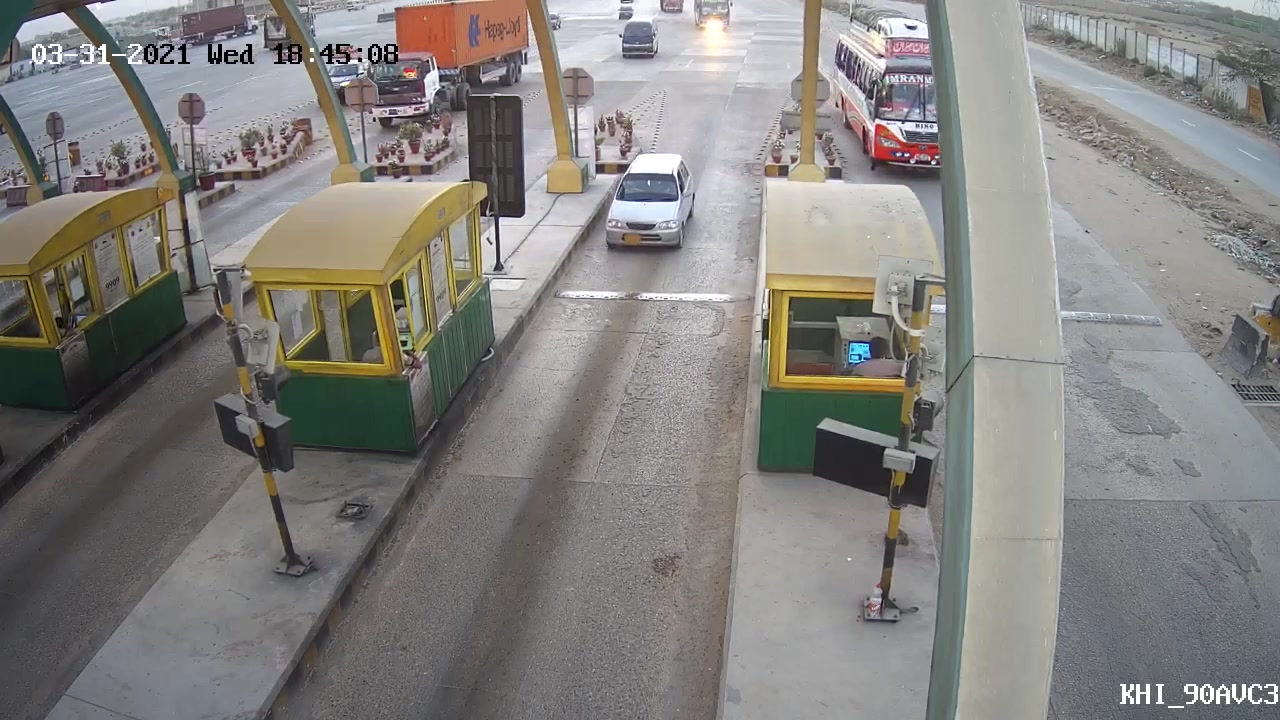F1: (597, 144, 709, 256)
